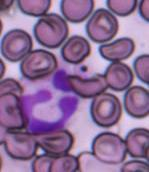N: (21, 76, 80, 136)
